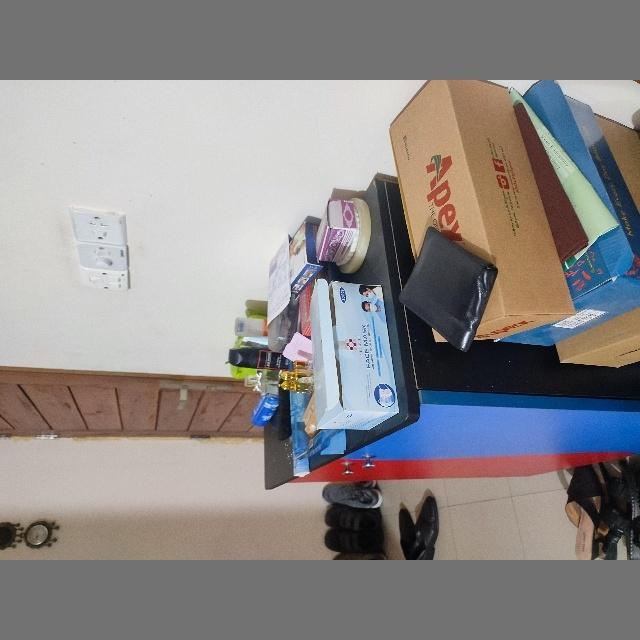Wallet: (398, 227, 498, 353)
